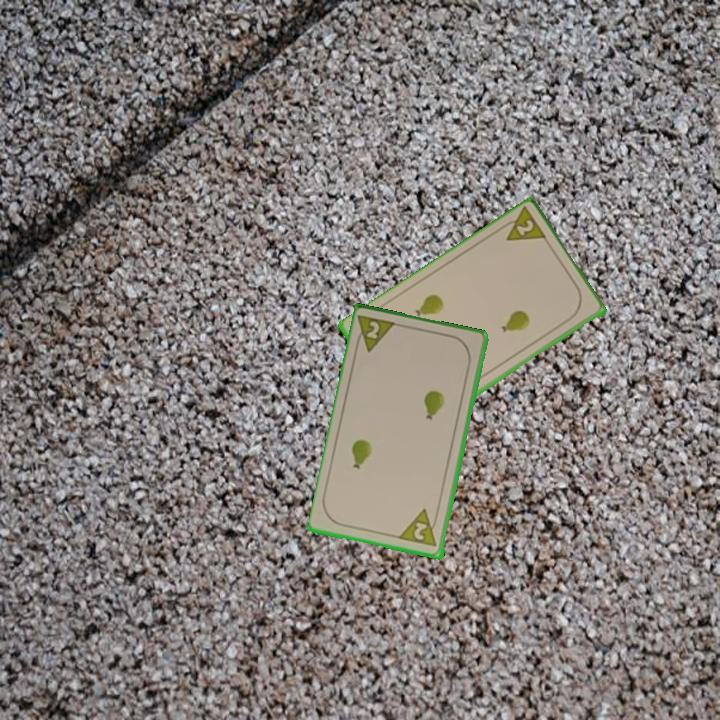2p: (495, 205, 550, 245), (352, 312, 401, 356), (397, 506, 442, 550)
